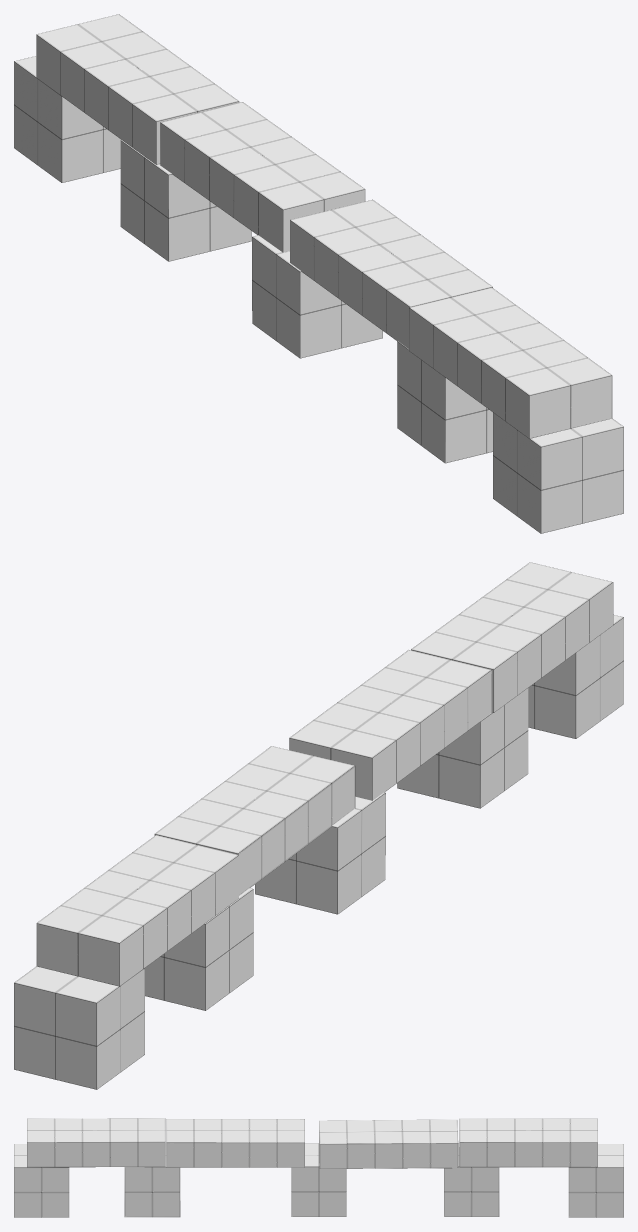
3 views of the same model, one above another, from view 1: azimuth 30°, elevation 25°; view 2: azimuth 150°, elevation 25°; view 3: azimuth 270°, elevation 25° (orthographic). The views are drawn at different scales.
Parts seen in each view (by area): view 1: GridPlank_0:3, GridPlank_0:1, GridPlank_0, GridPlank_0:2, Plane/BasicEnvironment/StartCube-1, GridCube_0:1, GridCube_0, Plane/BasicEnvironment/StartCube-2, GridCube_0:2; view 2: GridPlank_0, GridPlank_0:2, GridPlank_0:3, GridPlank_0:1, Plane/BasicEnvironment/StartCube-2, GridCube_0, GridCube_0:2, GridCube_0:1, Plane/BasicEnvironment/StartCube-1; view 3: GridPlank_0, GridPlank_0:3, GridPlank_0:1, GridPlank_0:2, Plane/BasicEnvironment/StartCube-2, Plane/BasicEnvironment/StartCube-1, GridCube_0, GridCube_0:2, GridCube_0:1.
Boxes of the visible parts, x1,y1,x2,y2 form: GridPlank_0:3: [409, 287, 612, 438]; GridPlank_0:1: [160, 102, 365, 252]; GridPlank_0: [36, 14, 239, 164]; GridPlank_0:2: [290, 199, 492, 348]; Plane/BasicEnvironment/StartCube-1: [493, 412, 623, 533]; GridCube_0:1: [120, 140, 251, 261]; GridCube_0: [252, 235, 382, 358]; Plane/BasicEnvironment/StartCube-2: [14, 56, 121, 182]; GridCube_0:2: [397, 341, 492, 463]; GridPlank_0: [36, 835, 239, 986]; GridPlank_0:2: [289, 650, 491, 800]; GridPlank_0:3: [411, 562, 613, 712]; GridPlank_0:1: [154, 746, 355, 895]; Plane/BasicEnvironment/StartCube-2: [14, 966, 144, 1089]; GridCube_0: [255, 792, 385, 914]; GridCube_0:2: [397, 688, 528, 808]; GridCube_0:1: [145, 888, 253, 1010]; Plane/BasicEnvironment/StartCube-1: [528, 614, 623, 738]; GridPlank_0: [459, 1118, 597, 1167]; GridPlank_0:3: [27, 1118, 165, 1167]; GridPlank_0:1: [319, 1119, 458, 1168]; GridPlank_0:2: [166, 1119, 304, 1167]; Plane/BasicEnvironment/StartCube-2: [568, 1144, 623, 1217]; Plane/BasicEnvironment/StartCube-1: [14, 1144, 69, 1217]; GridCube_0: [291, 1143, 346, 1216]; GridCube_0:2: [124, 1144, 180, 1217]; GridCube_0:1: [444, 1143, 499, 1216].
Size of the model in its own units: 0.2166 by 0.301 by 2.2.
